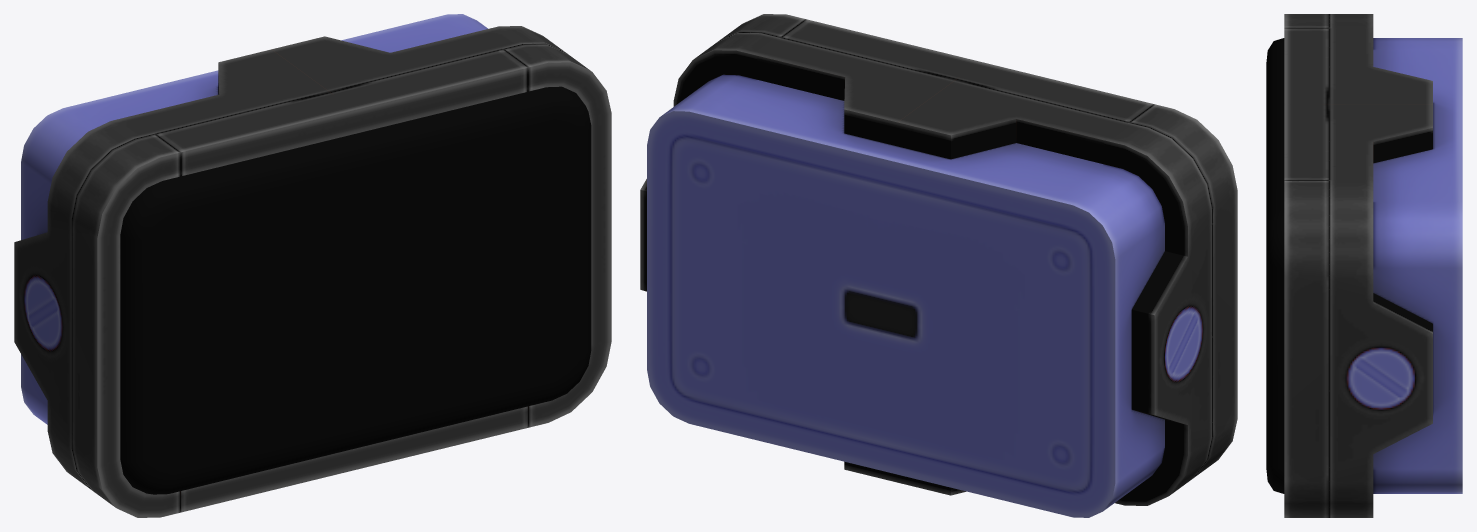
File: rfs_lcd_small.fbx
The picture shows the model from 3 angles, left to right: view 1: azimuth 30°, elevation 25°; view 2: azimuth 150°, elevation 25°; view 3: azimuth 270°, elevation 25°; orthographic projection. The views are drawn at different scales.
Visible parts, largest first — view 1: obj_interactive_textsign_small.001, obj_interactive_textsign_small; view 2: obj_interactive_textsign_small; view 3: obj_interactive_textsign_small, obj_interactive_textsign_small.001.
Boxes of the visible parts, x1,y1,x2,y2 form: obj_interactive_textsign_small.001: [120, 86, 591, 494]; obj_interactive_textsign_small: [14, 14, 611, 517]; obj_interactive_textsign_small: [640, 14, 1237, 517]; obj_interactive_textsign_small: [1284, 14, 1462, 517]; obj_interactive_textsign_small.001: [1266, 38, 1284, 493].
Bounding box in the file's own units: 2.99 × 2 × 1.1.
